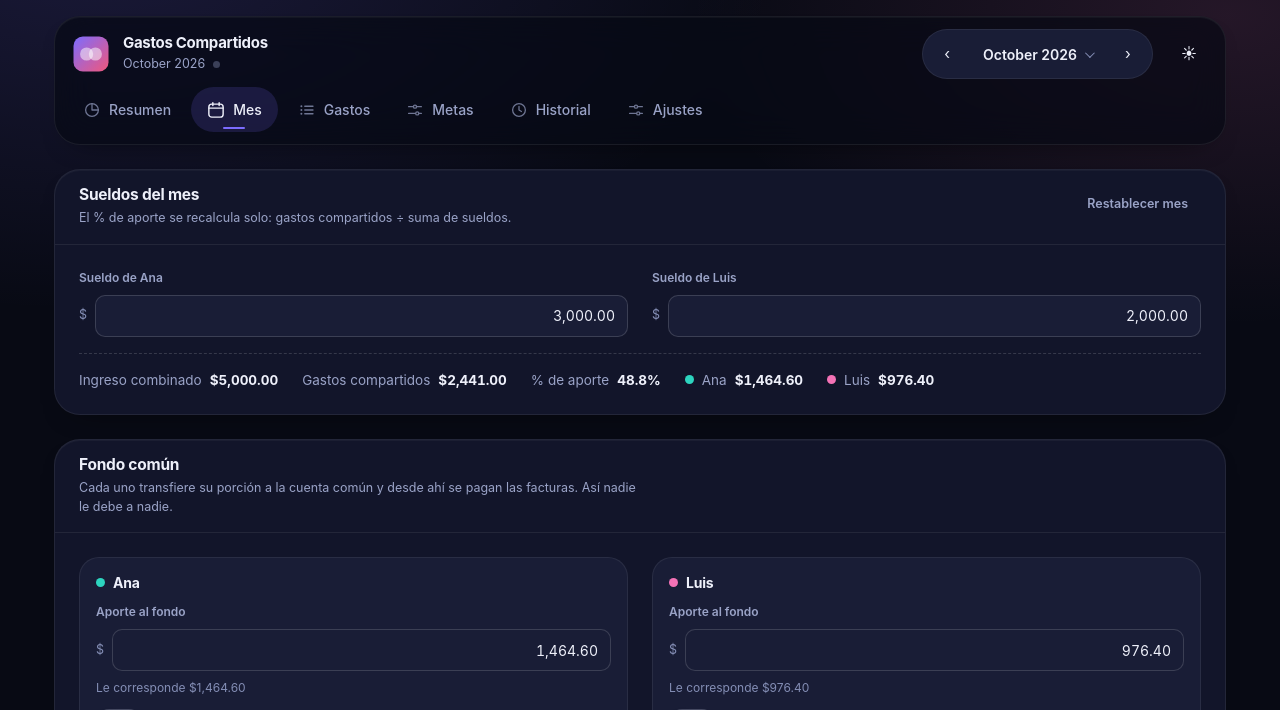
Scenario: app de gastos compartidos › el acumulado por mes va en un cuadro por persona
Step 1. Click the button "Metas" → click(440, 110), box [390,87,490,132]
(page scrolled)
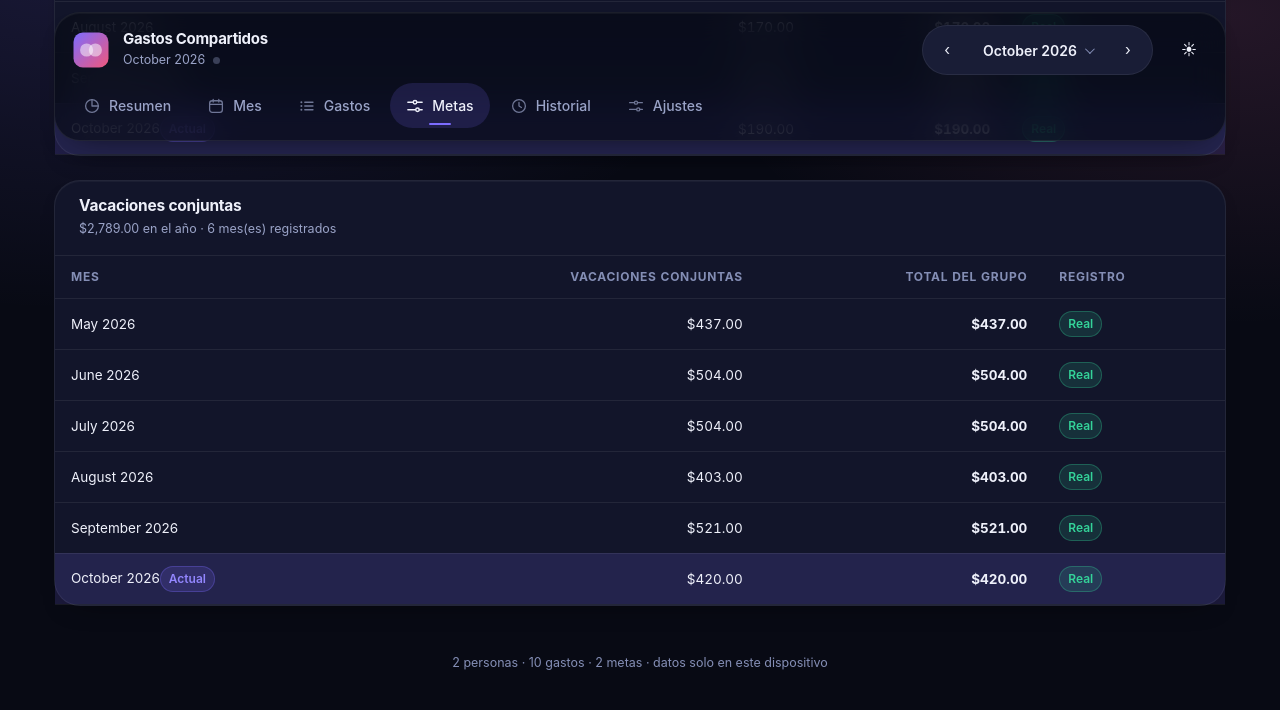
expect the element with class "table" does not show "$190.00": met
expect the table with class "table" shows "$420.00": met, box [687,570,743,586]
